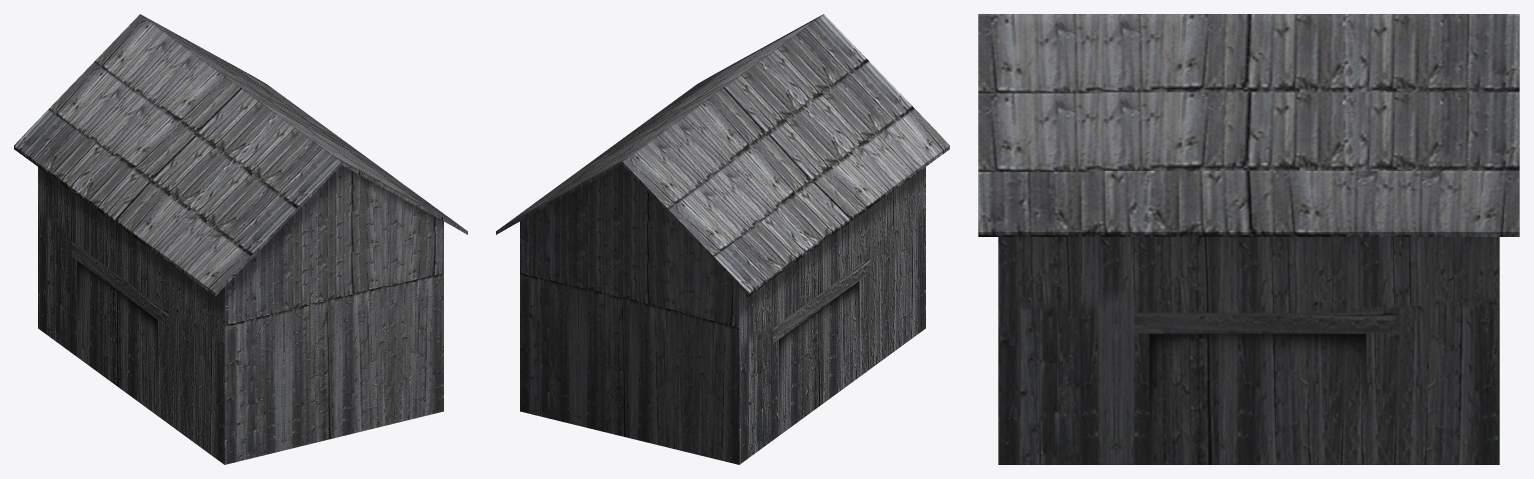
The model's file is BarnOnly.FBX.
The picture shows the model from 3 angles, left to right: view 1: azimuth 30°, elevation 25°; view 2: azimuth 150°, elevation 25°; view 3: azimuth 270°, elevation 25°; orthographic projection. The views are drawn at different scales.
Visible parts, largest first — view 1: BarnLoPoly; view 2: BarnLoPoly; view 3: BarnLoPoly.
Part boxes in pixels (x1,y1,x2,y2): BarnLoPoly: [14, 14, 467, 464]; BarnLoPoly: [496, 14, 949, 464]; BarnLoPoly: [978, 14, 1519, 464].
Bounding box in the file's own units: 442 × 472 × 610.
1 material, 1 textured.
